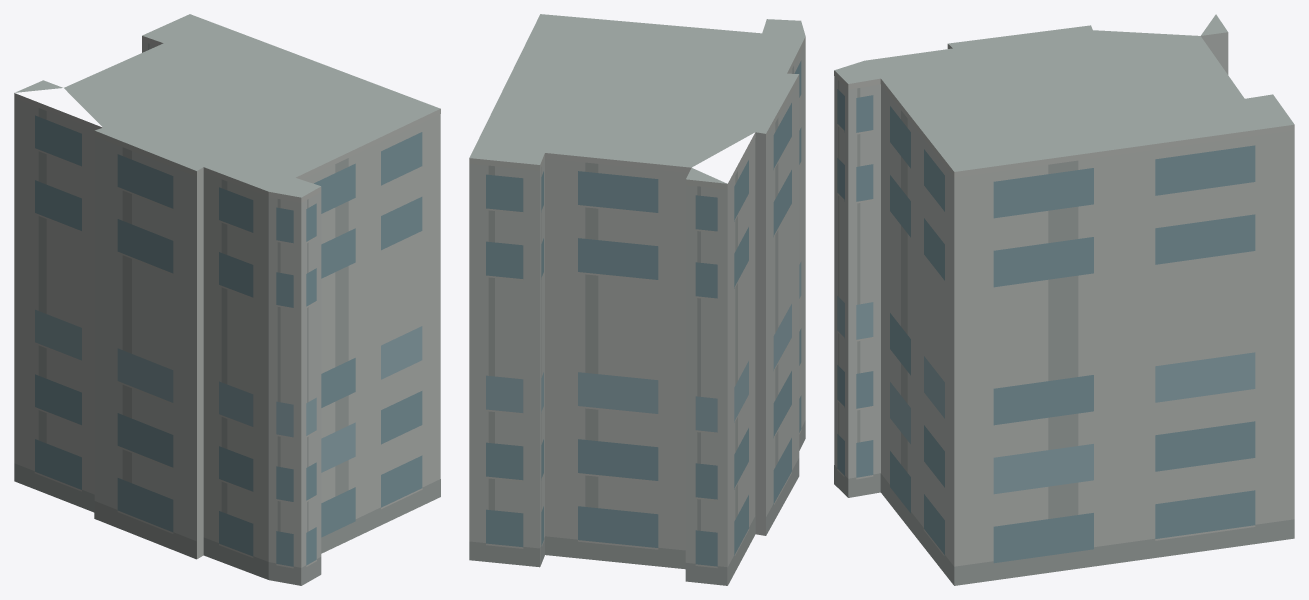
Rendered from survey-upis-32749298.glb.
The picture shows the model from 3 angles, left to right: view 1: azimuth 30°, elevation 25°; view 2: azimuth 150°, elevation 25°; view 3: azimuth 270°, elevation 25°; orthographic projection. The views are drawn at different scales.
Visible parts, largest first — view 1: survey-upis-32749298.tmp; view 2: survey-upis-32749298.tmp; view 3: survey-upis-32749298.tmp.
Part boxes in pixels (x1=…): survey-upis-32749298.tmp: x1=14, y1=14, x2=440, y2=585; survey-upis-32749298.tmp: x1=469, y1=14, x2=805, y2=585; survey-upis-32749298.tmp: x1=834, y1=14, x2=1294, y2=585.
Size of the model in its own units: 14.29 by 17.45 by 17.6.
